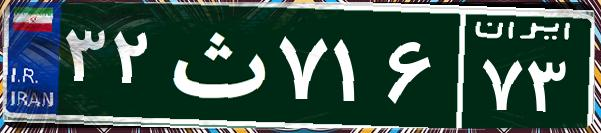1: (330, 28, 385, 110)
2: (110, 28, 158, 105)
3: (57, 26, 110, 107), (525, 38, 570, 115)
6: (385, 28, 445, 110)
7: (273, 28, 330, 110), (475, 38, 525, 113)
ث: (158, 15, 273, 115)
